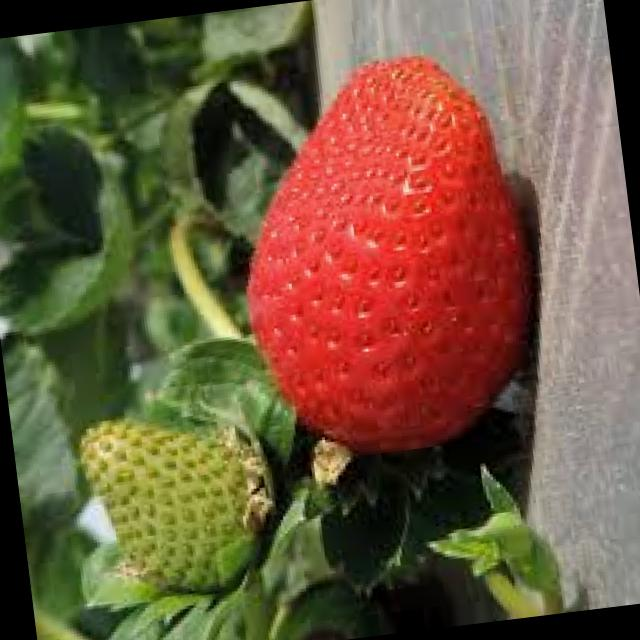strawberry: (225, 24, 559, 480)
